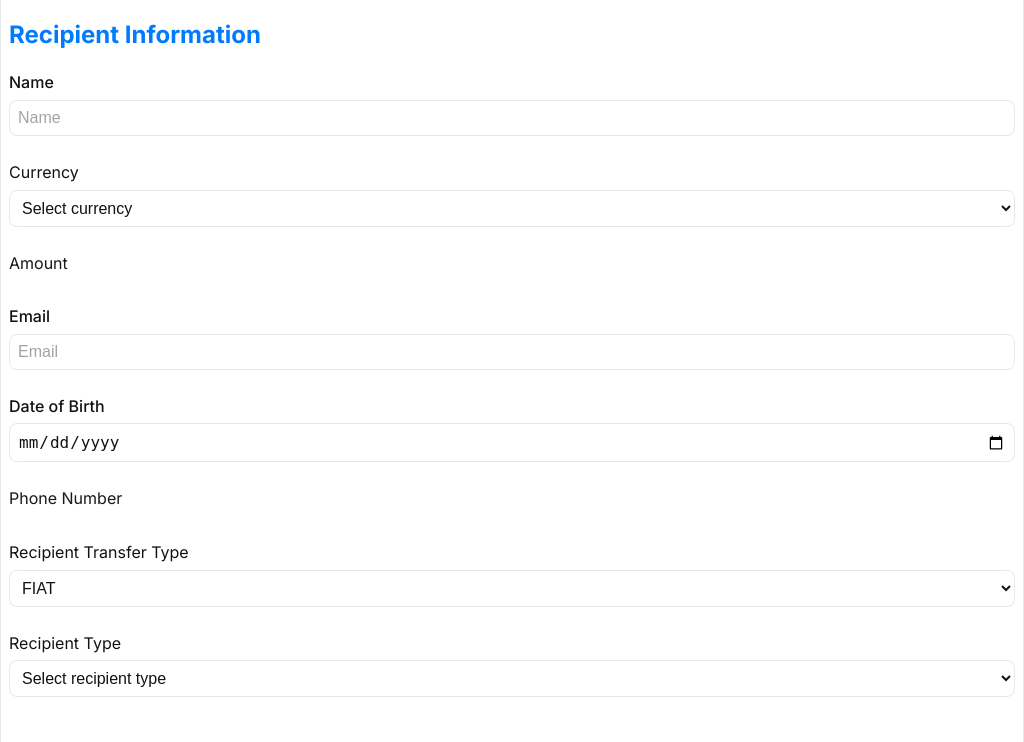
Test case: RecipientFormSection › shows wallet details when BLOCKCHAIN is selected
This screenshot has width=1024, height=742.
Select "BLOCKCHAIN" in the dropdown labelled "Recipient Transfer Type": (512, 588) [9,570,1015,606]
(page scrolled)
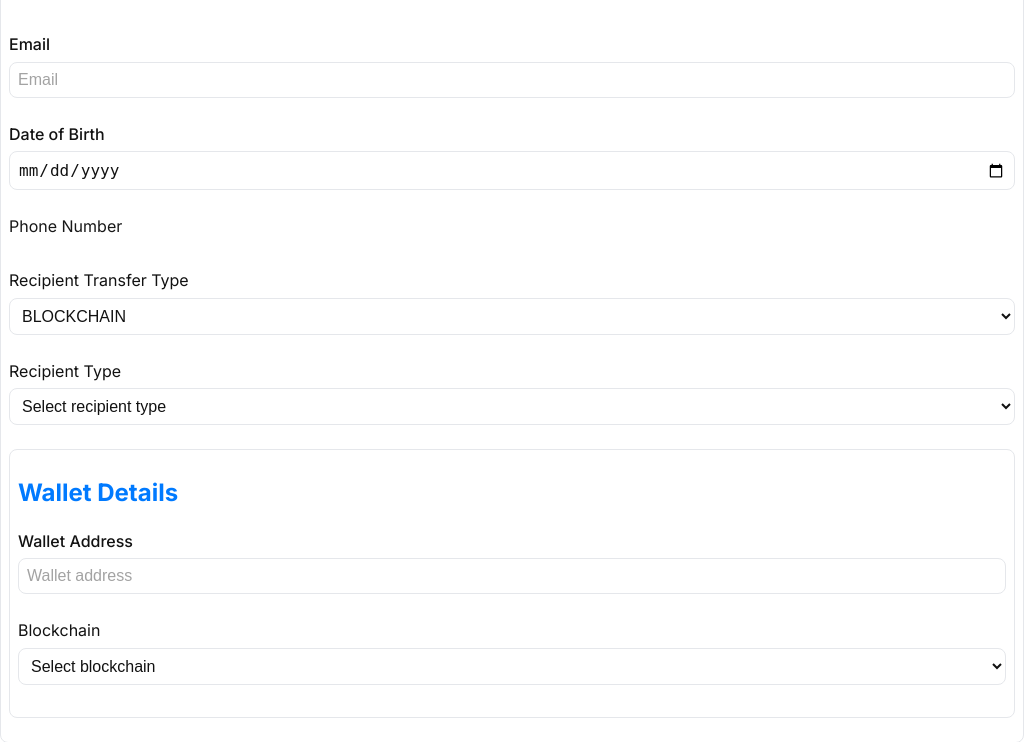
Check: the field labelled "Wallet Address" is shown, box [18,558,1006,594]
